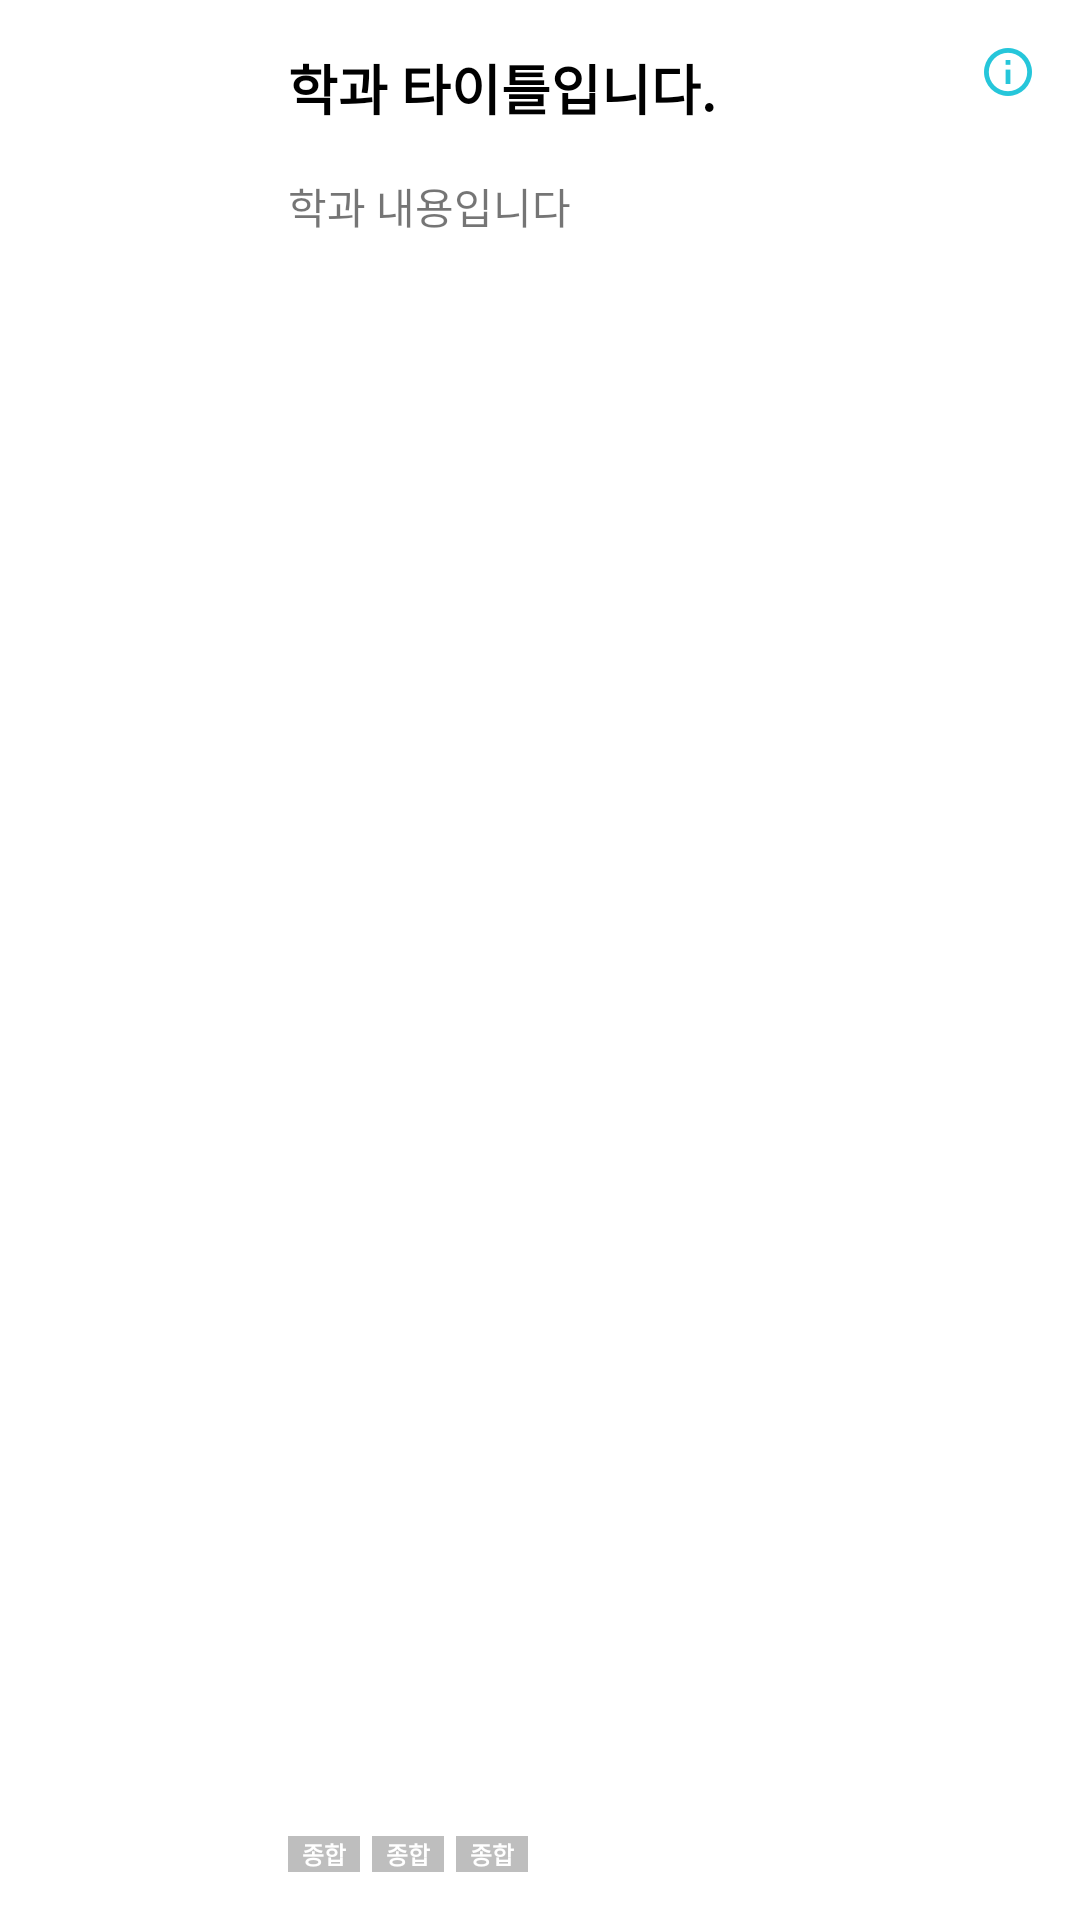

Icon click points for this 1080 x 1920 phone screenshot, format (x,y):
information: (1008,72)
